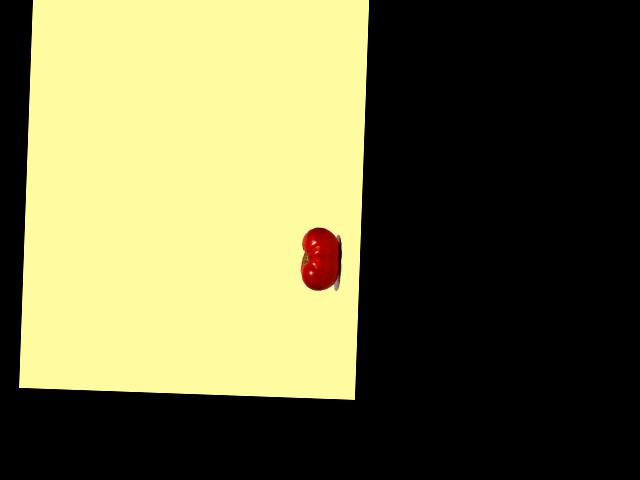tomato: (300, 226, 340, 290)
